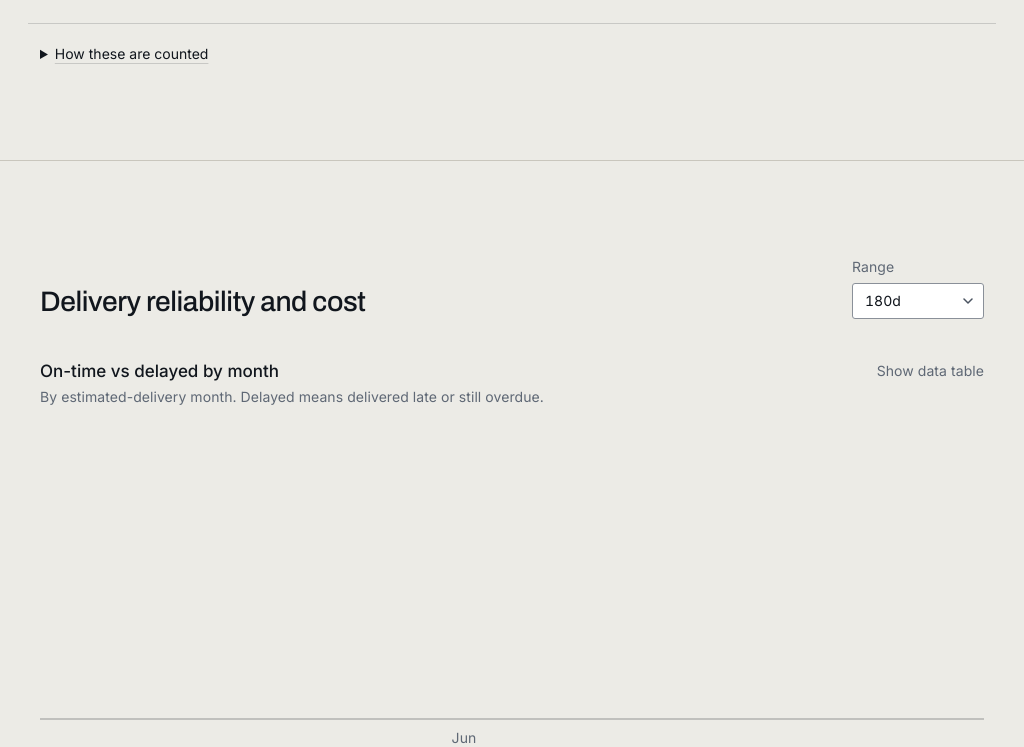
Test case: Dashboard (Atlas): interaction and accessibility › every chart keeps its data-table equivalent
The width and height of the screenshot is (1024, 747).
(page scrolled)
Step 1. Click the button "Show data table" → (930, 371), box [877,359,984,383]
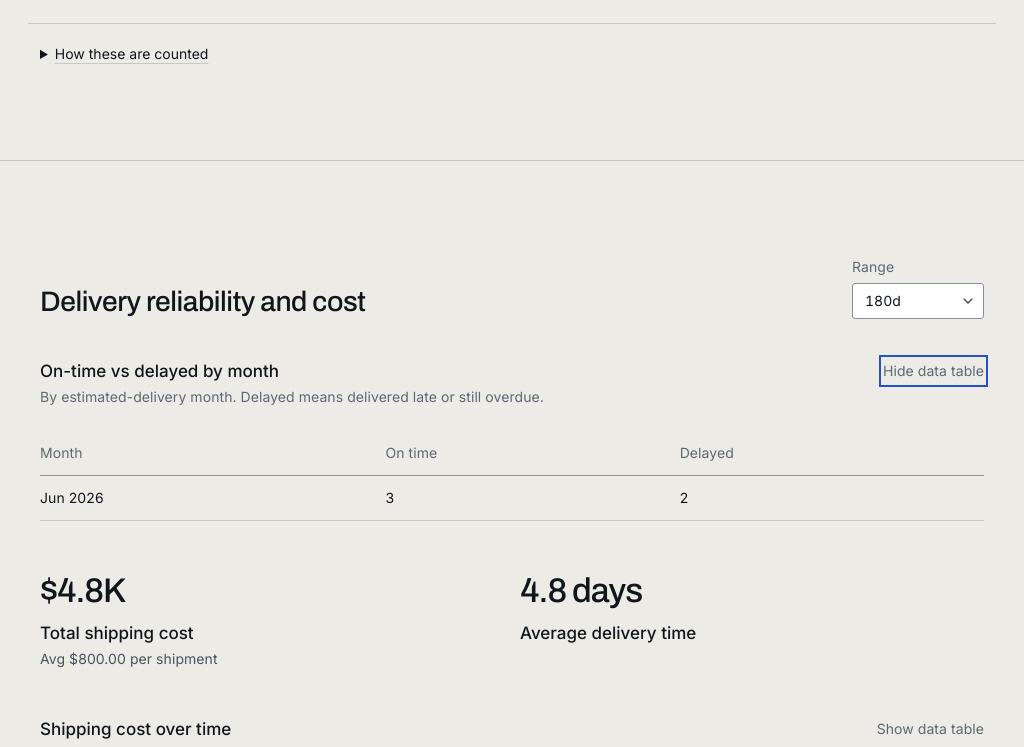
Expected: the table named "On-time vs delayed by month data" is shown, [40,431,984,521]
Step 2. Click the button "Show data table" → (930, 729), box [877,717,984,741]
(page scrolled)
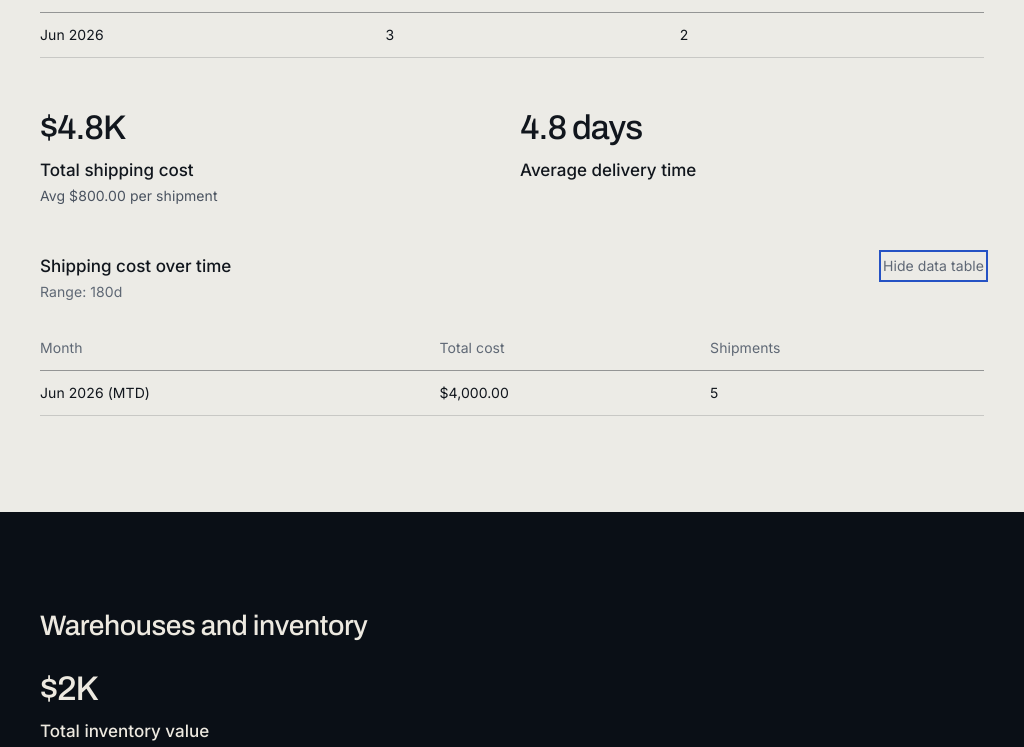
Expected: the table named "Shipping cost over time data" is shown, [40,326,984,416]
